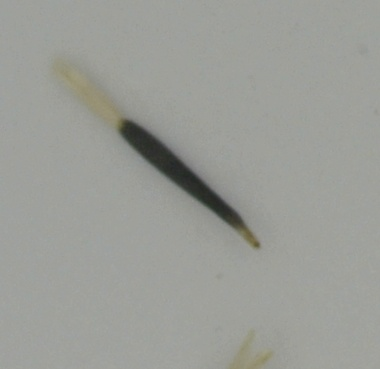เมล็ดงอกแตก: (41, 54, 264, 252)
